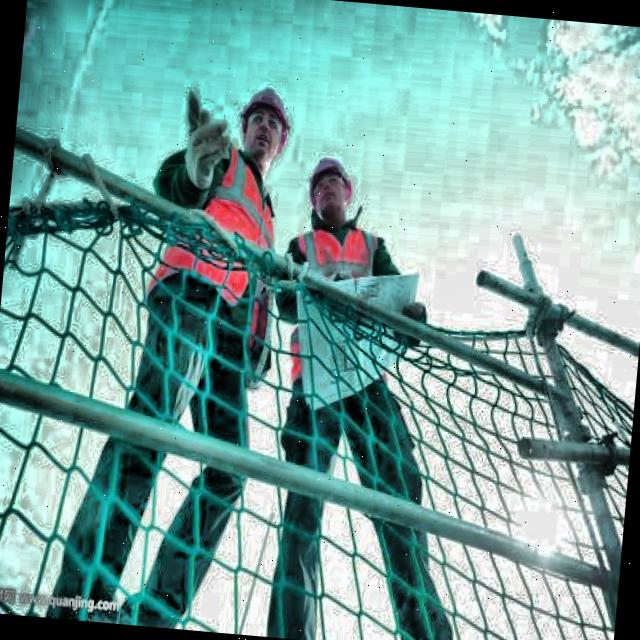helmet: (230, 68, 299, 172), (300, 145, 362, 231)
